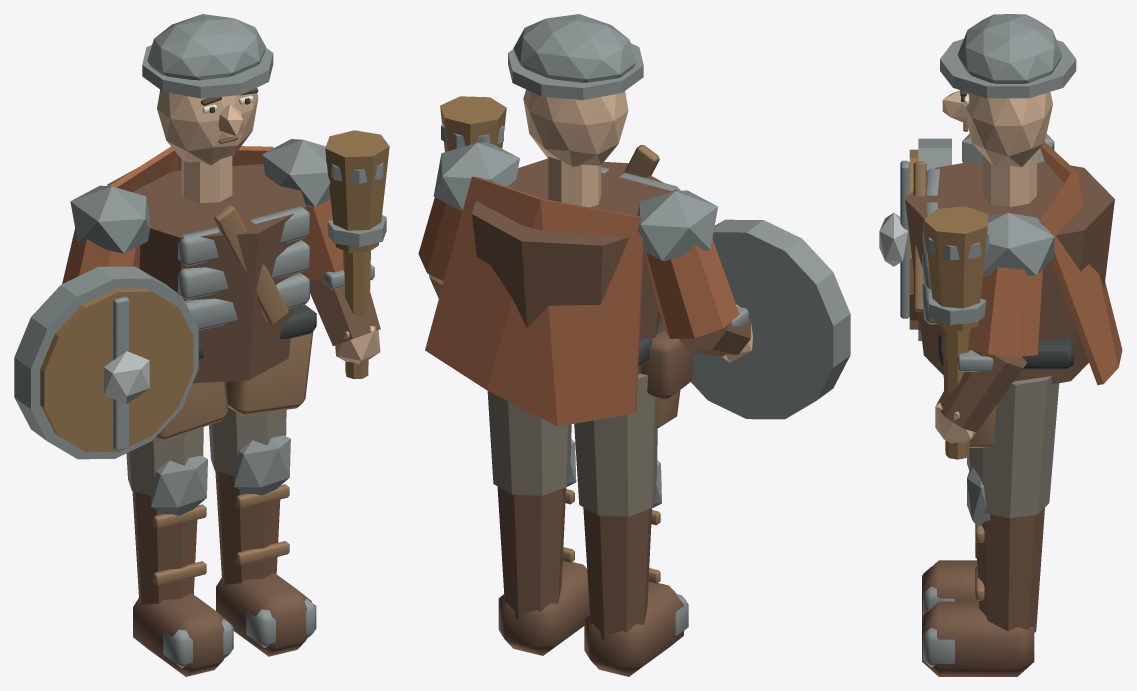
File: model_raider.glb
The picture shows the model from 3 angles, left to right: view 1: azimuth 30°, elevation 25°; view 2: azimuth 150°, elevation 25°; view 3: azimuth 270°, elevation 25°; orthographic projection. The views are drawn at different scales.
Visible parts, largest first — view 1: coat torso.001, round shield wooden face, round shield iron rim, iron kettle helmet, heavy club, boot toe.002, boot toe.003, head.001, shin leather boot.003, shin leather boot.002, shoulder guard.002, overlapping leather tasset.003 (+32 smaller); view 2: short travel cloak.001, round shield iron rim, coat torso.001, trouser upper leg.002, shin leather boot.003, shin leather boot.002, trouser upper leg.003, iron kettle helmet, upper sleeve.002, head.001, boot toe.002, boot toe.003 (+9 smaller); view 3: coat torso.001, trouser upper leg.003, short travel cloak.001, shin leather boot.003, boot toe.003, iron kettle helmet, heavy club, upper sleeve.003, head.001, shoulder guard.003, forearm leather bracer.003, helmet brim (+19 smaller).
Boxes of the visible parts, <box> form: coat torso.001: <box>107,164,306,383</box>; round shield wooden face: <box>40,288,193,452</box>; round shield iron rim: <box>14,266,198,459</box>; iron kettle helmet: <box>147,14,266,80</box>; heavy club: <box>325,130,389,252</box>; boot toe.002: <box>133,593,228,676</box>; boot toe.003: <box>216,573,311,656</box>; head.001: <box>157,89,258,165</box>; shin leather boot.003: <box>215,471,280,584</box>; shin leather boot.002: <box>132,491,197,604</box>; shoulder guard.002: <box>70,185,149,253</box>; overlapping leather tasset.003: <box>225,331,313,415</box>; short travel cloak.001: <box>425,176,643,426</box>; round shield iron rim: <box>691,219,850,419</box>; coat torso.001: <box>472,158,677,374</box>; trouser upper leg.002: <box>574,373,657,516</box>; shin leather boot.003: <box>497,486,566,620</box>; shin leather boot.002: <box>583,507,651,640</box>; trouser upper leg.003: <box>487,391,571,495</box>; iron kettle helmet: <box>513,14,636,82</box>; upper sleeve.002: <box>645,239,739,338</box>; head.001: <box>523,89,628,166</box>; boot toe.002: <box>584,582,683,676</box>; boot toe.003: <box>498,561,589,655</box>; coat torso.001: <box>905,161,1114,384</box>; trouser upper leg.003: <box>970,376,1059,518</box>; short travel cloak.001: <box>1039,142,1122,385</box>; shin leather boot.003: <box>976,508,1044,632</box>; boot toe.003: <box>922,601,1034,676</box>; iron kettle helmet: <box>957,14,1062,83</box>; heavy club: <box>924,206,987,331</box>; upper sleeve.003: <box>968,267,1042,356</box>; head.001: <box>966,92,1052,167</box>; shoulder guard.003: <box>983,212,1054,276</box>; forearm leather bracer.003: <box>936,351,1027,432</box>; helmet brim: <box>940,39,1076,98</box>.
Bounding box in the file's own units: 1.17 × 1.85 × 0.6483.
